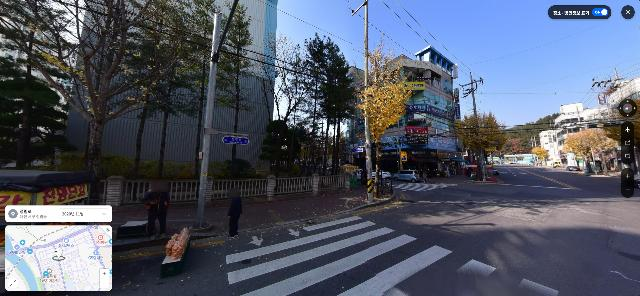ginkgo: (353, 34, 416, 197), (454, 108, 509, 180), (533, 149, 547, 166)
other: (0, 0, 236, 174), (259, 37, 323, 174), (0, 54, 69, 154), (211, 0, 253, 160), (321, 36, 356, 173), (300, 35, 333, 172), (259, 119, 296, 176), (606, 106, 640, 168), (507, 113, 556, 154), (295, 135, 317, 174)
